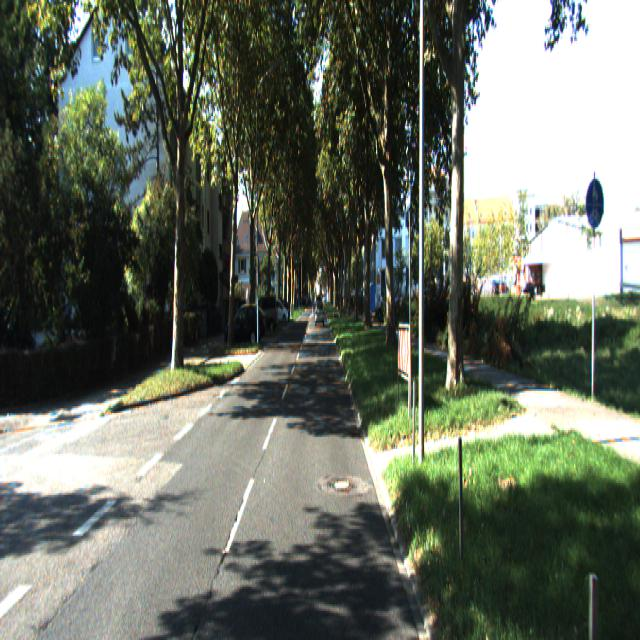Car: (227, 304, 262, 350)
